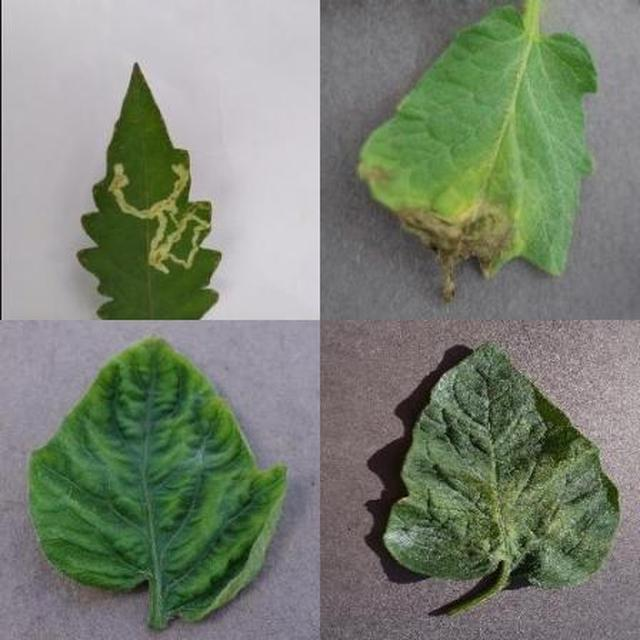Leaf Miner: (212, 216, 640, 640)
